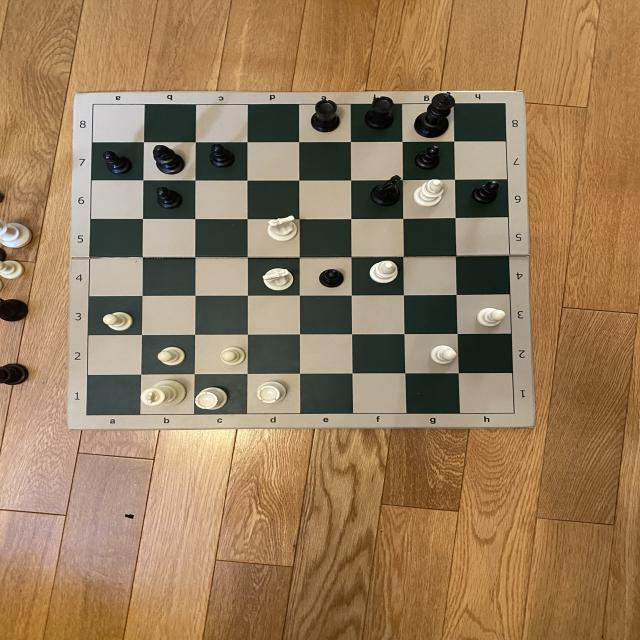Chessboard-Corners: (502, 408, 524, 417), (496, 100, 514, 109), (79, 411, 95, 419), (89, 102, 102, 110)
